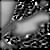node: (12, 10, 50, 35)
